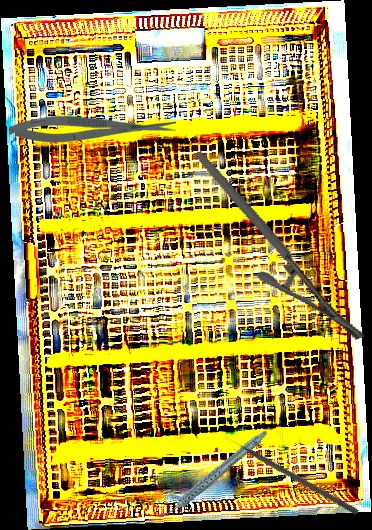Handpiece: (143, 428, 282, 520)
Micro Scissor: (9, 115, 176, 144)
Needle Holder: (192, 119, 367, 371)
Pusher: (223, 432, 360, 516)
